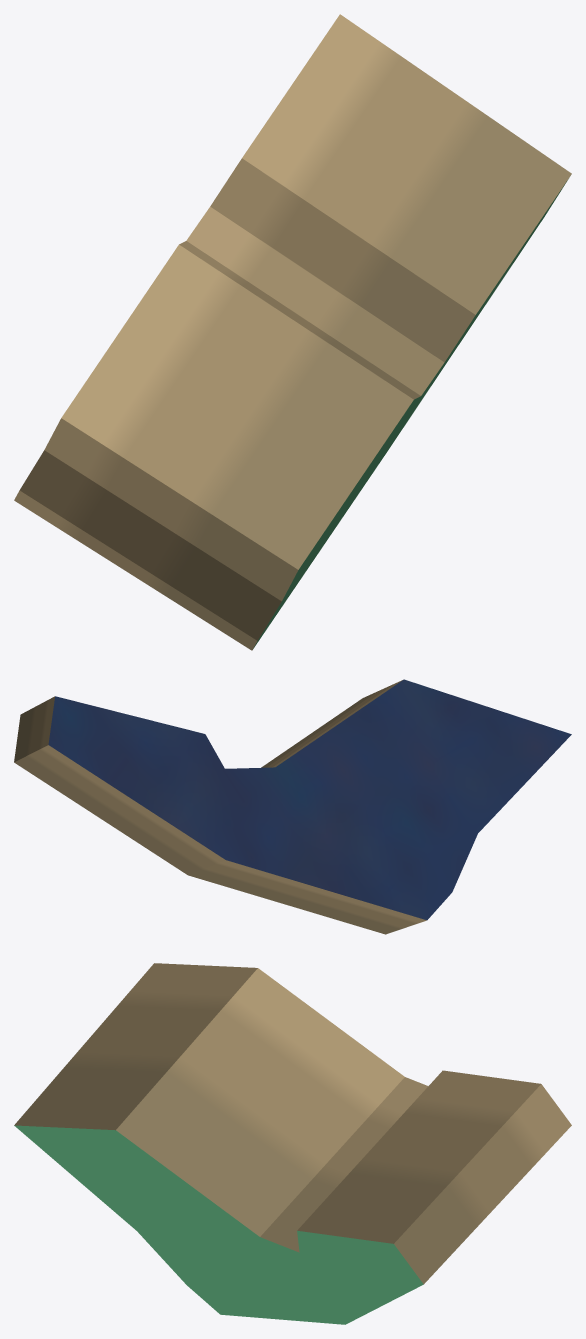
File: 0632_North_Korea.glb
3 renders of one model, top to bottom at view 1: azimuth 30°, elevation 25°; view 2: azimuth 150°, elevation 25°; view 3: azimuth 270°, elevation 25°, orthographic. The views are drawn at different scales.
Parts seen in each view (by area): view 1: part_0; view 2: part_0; view 3: part_0.
Part boxes in pixels (x1=…): part_0: x1=14, y1=14, x2=571, y2=650; part_0: x1=14, y1=679, x2=571, y2=934; part_0: x1=14, y1=963, x2=571, y2=1324.
Bounding box in the file's own units: 0.5395 × 0.3313 × 0.4869.
1 material, 1 textured.
